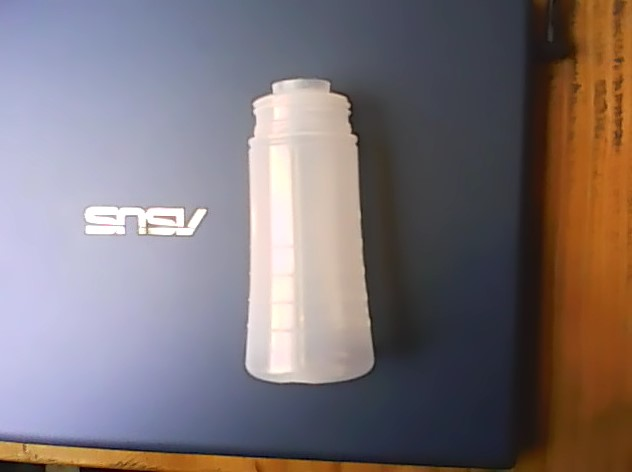Plastic: (242, 78, 379, 384)
